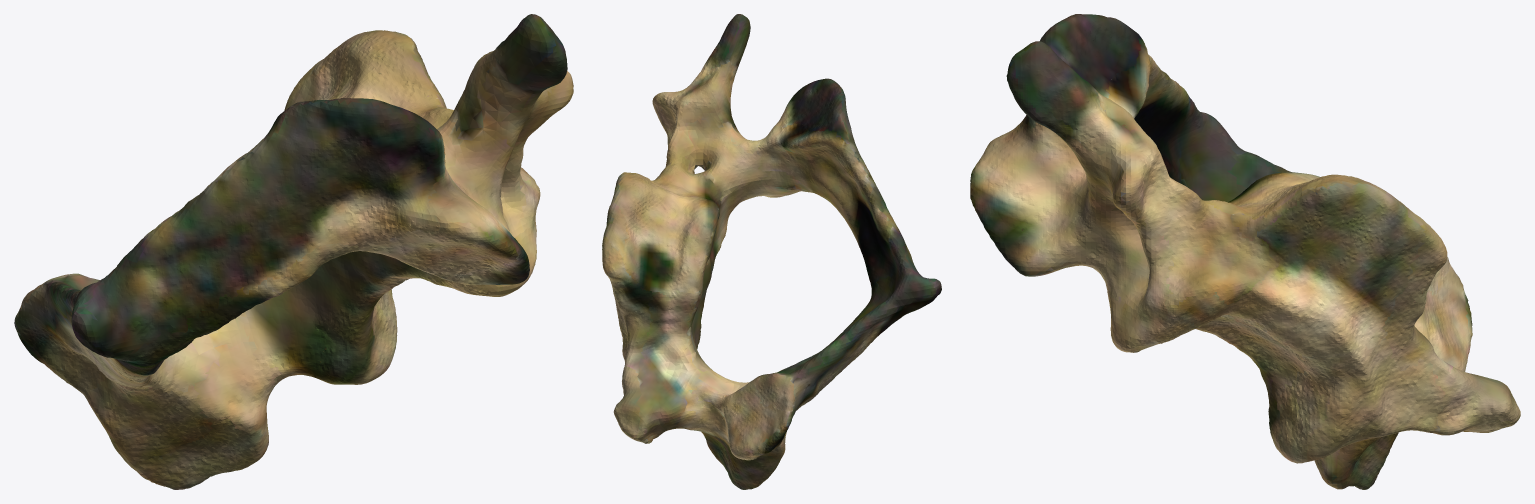
Rendered from 22_spine.glb.
3 renders of one model, left to right at view 1: azimuth 30°, elevation 25°; view 2: azimuth 150°, elevation 25°; view 3: azimuth 270°, elevation 25°, orthographic. The views are drawn at different scales.
Visible parts, largest first — view 1: Node; view 2: Node; view 3: Node.
Part boxes in pixels (x1,y1,x2,y2): Node: (14, 14, 573, 489); Node: (602, 14, 941, 489); Node: (970, 14, 1520, 489).
Bounding box in the file's own units: 18.1 × 20.63 × 19.51.
Materials: 1 (1 with a texture image).
